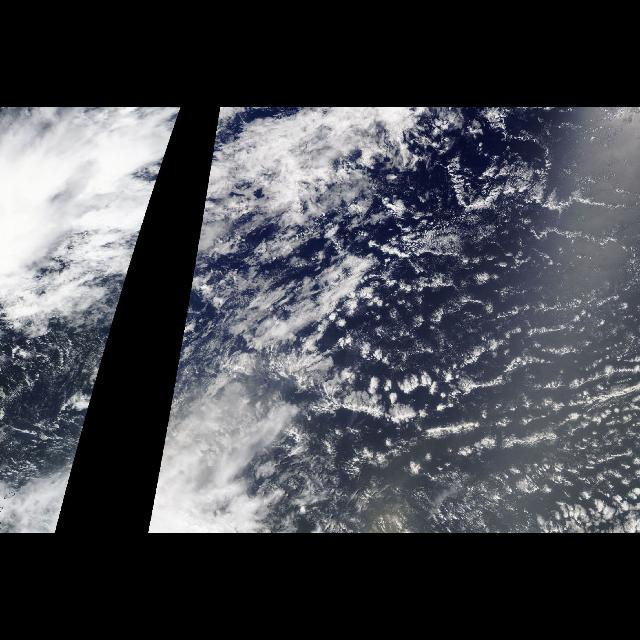Flower: (239, 198, 639, 534)
